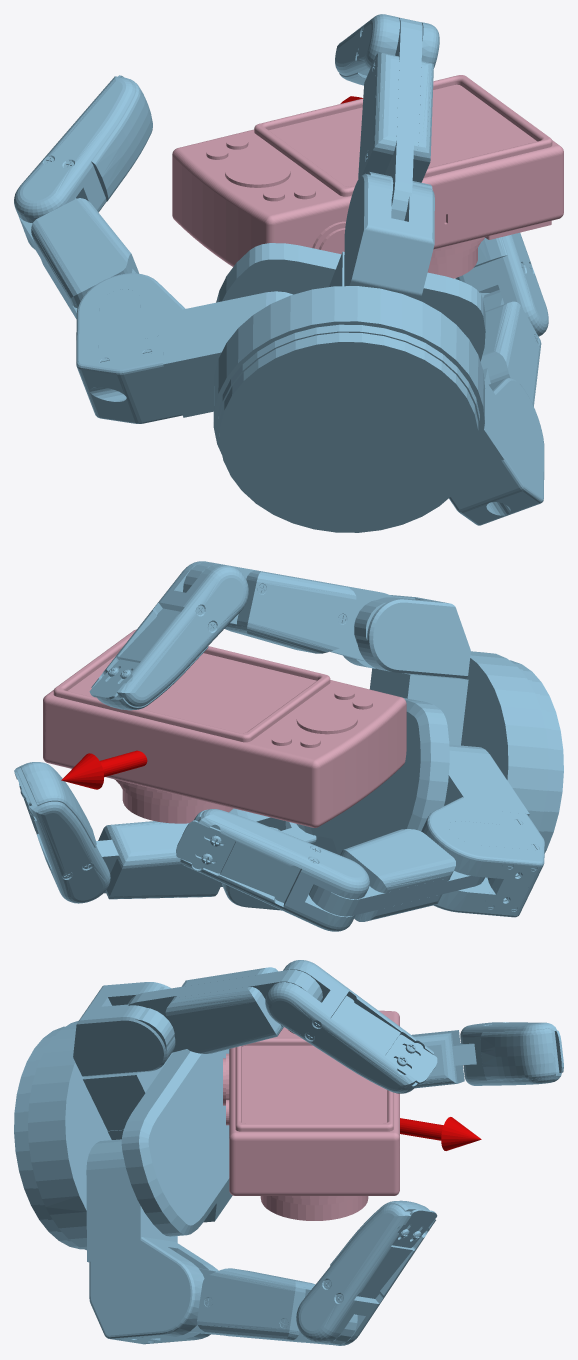
3 views of the same model, one above another, from view 1: azimuth 30°, elevation 25°; view 2: azimuth 150°, elevation 25°; view 3: azimuth 270°, elevation 25° (orthographic). The views are drawn at different scales.
Visible parts, largest first — view 1: world, camera.stl; view 2: world, camera.stl; view 3: world, camera.stl.
Part boxes in pixels (left/top/right/bottom): world: left=14, top=14, right=548, bottom=532; camera.stl: left=172, top=75, right=563, bottom=278; world: left=14, top=561, right=563, bottom=931; camera.stl: left=43, top=629, right=406, bottom=827; world: left=14, top=960, right=563, bottom=1345; camera.stl: left=223, top=1010, right=399, bottom=1220.
Size of the model in its own units: 0.1897 by 0.1594 by 0.2084.
